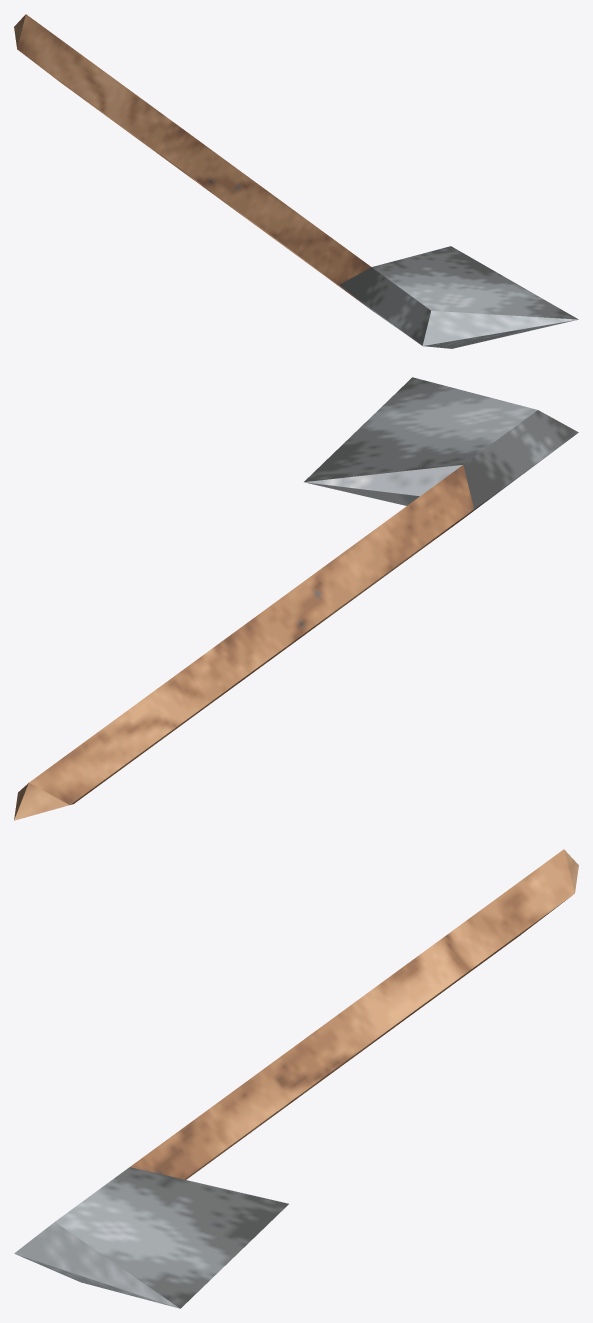
The model's file is Axe.obj.
3 views of the same model, one above another, from view 1: azimuth 30°, elevation 25°; view 2: azimuth 150°, elevation 25°; view 3: azimuth 330°, elevation 25° (orthographic). The views are drawn at different scales.
Visible parts, largest first — view 1: Axe; view 2: Axe; view 3: Axe.
Part boxes in pixels (x1,y1,x2,y2): Axe: (14, 14, 578, 348); Axe: (14, 377, 578, 820); Axe: (14, 849, 578, 1308).
Size of the model in its own units: 0.7 by 0.2 by 3.7.
1 material, 1 textured.
